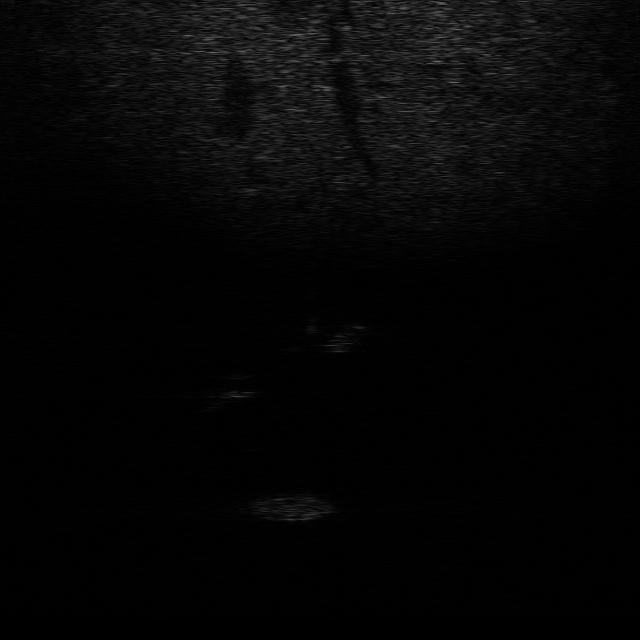ball: (205, 370, 260, 400)
circle cage: (242, 486, 342, 527)
human body: (288, 312, 372, 357)
